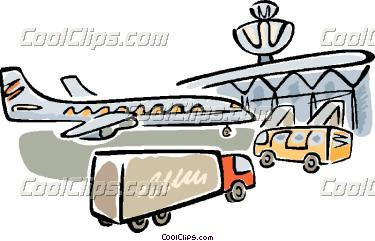aeroplane: (2, 61, 256, 142)
car: (83, 137, 262, 228), (248, 120, 356, 178)
